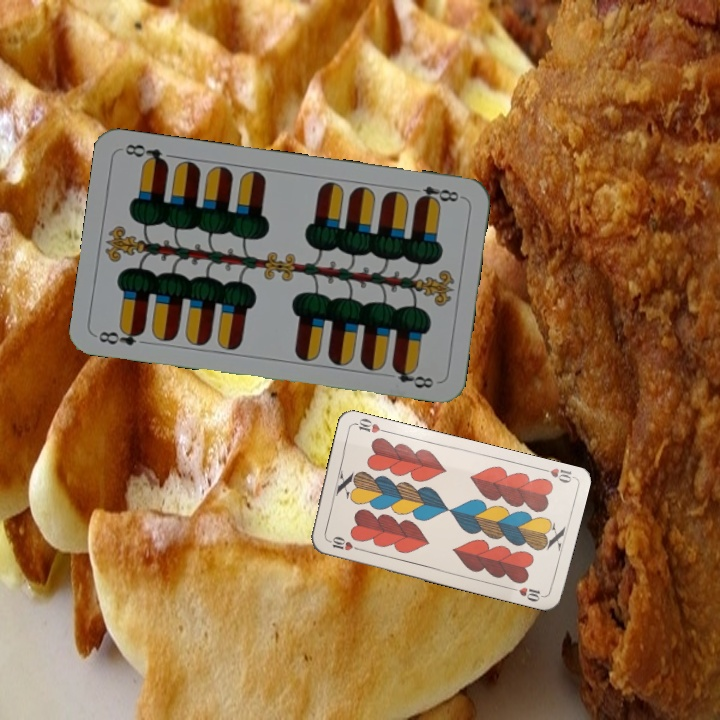E8: (406, 182, 465, 207), (94, 323, 146, 348)
H10: (536, 464, 576, 486), (323, 533, 363, 553)
